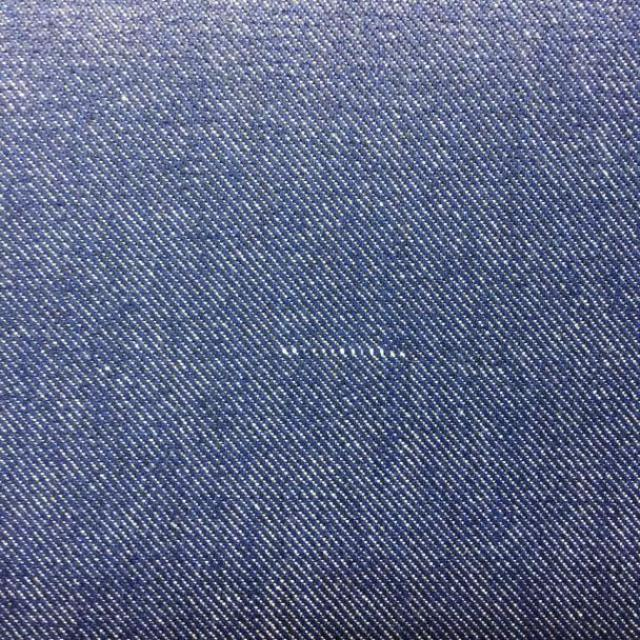Knot: (280, 346, 408, 362)
